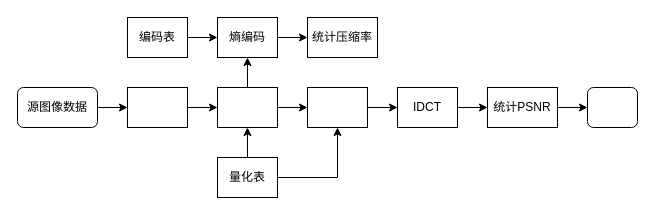
The diagram is 655 pixels wide and 215 high, and some of its shapes have lost their labels. The shapes that lost their labels are listed below. From the top down, each one's box as (x1, y1, x2, y2) in pixels, then its label:
(126, 86, 188, 128): FDCT
(216, 86, 278, 128): 量化器
(306, 86, 368, 128): 反量化
(586, 86, 638, 128): 结束
